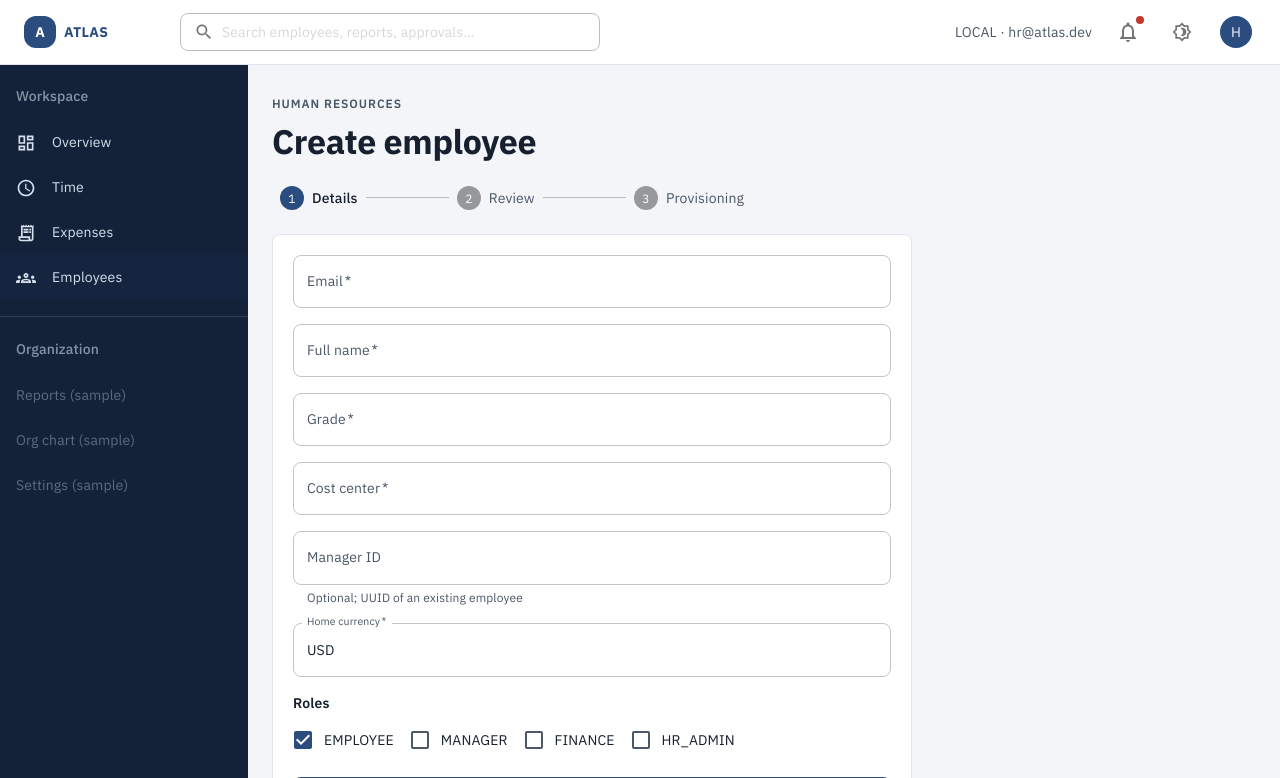
App › lets an HR admin create an employee and see provisioning resolve
Expected: the heading "Create employee" is shown, [272, 120, 536, 162]
Type "new.hire@atlas.dev" into the field labelled "Email *".
click(592, 281); type("new.hire@atlas.dev")  # box [293, 255, 891, 308]
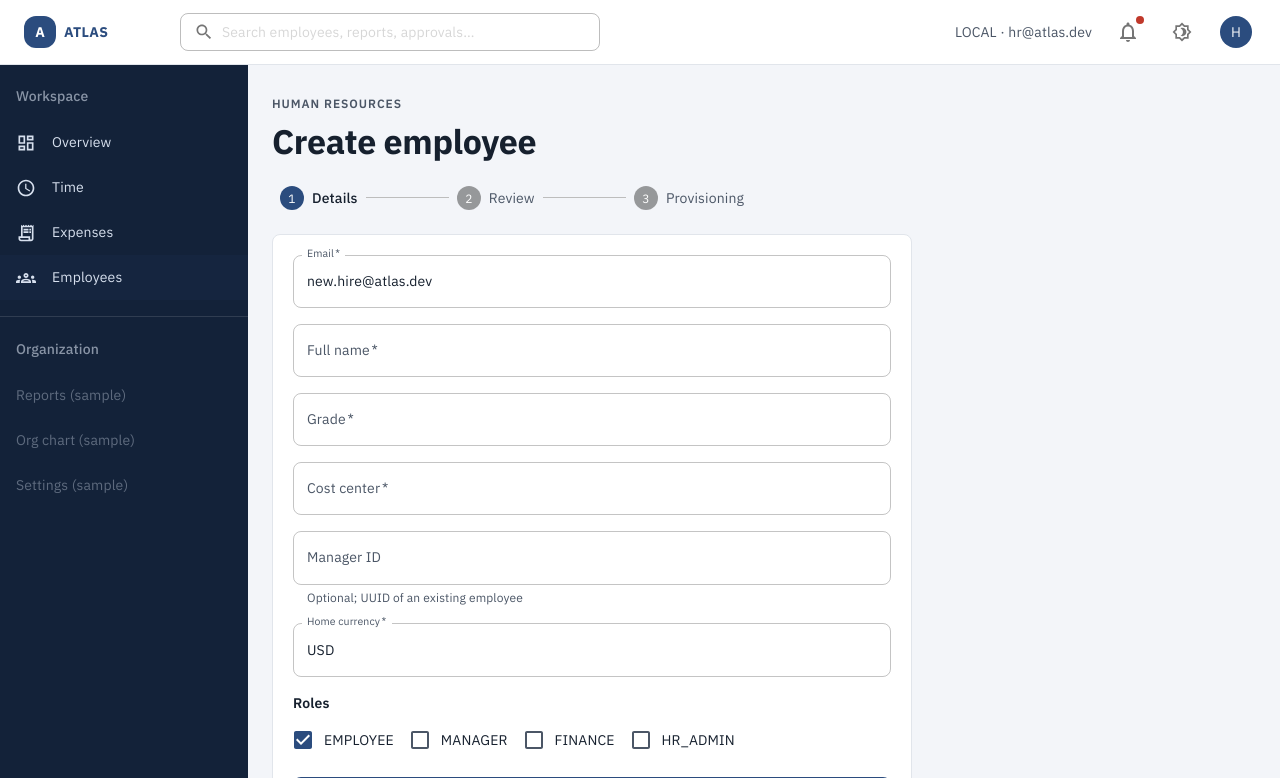
Type "New Hire" into the field labelled "Full name *".
click(592, 351); type("New Hire")  # box [293, 324, 891, 377]
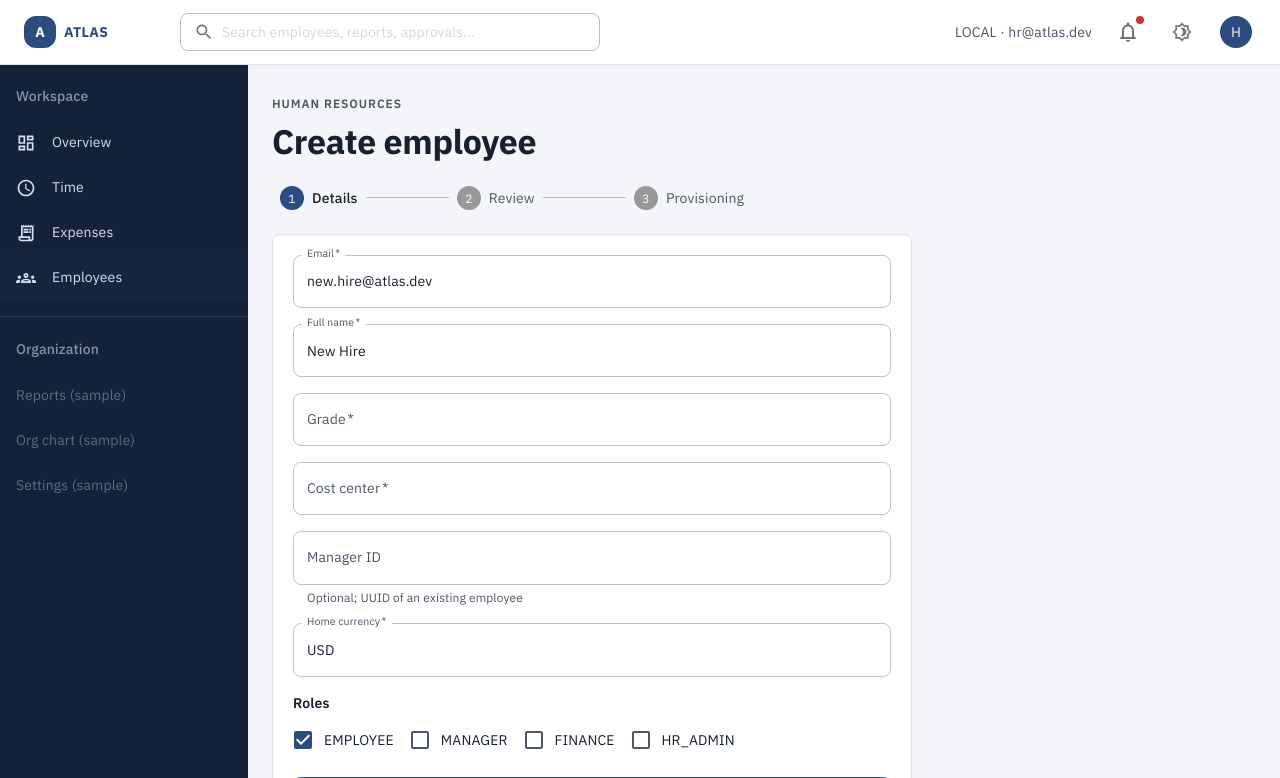
Type "IC1" into the field labelled "Grade *".
click(592, 420); type("IC1")  # box [293, 393, 891, 446]
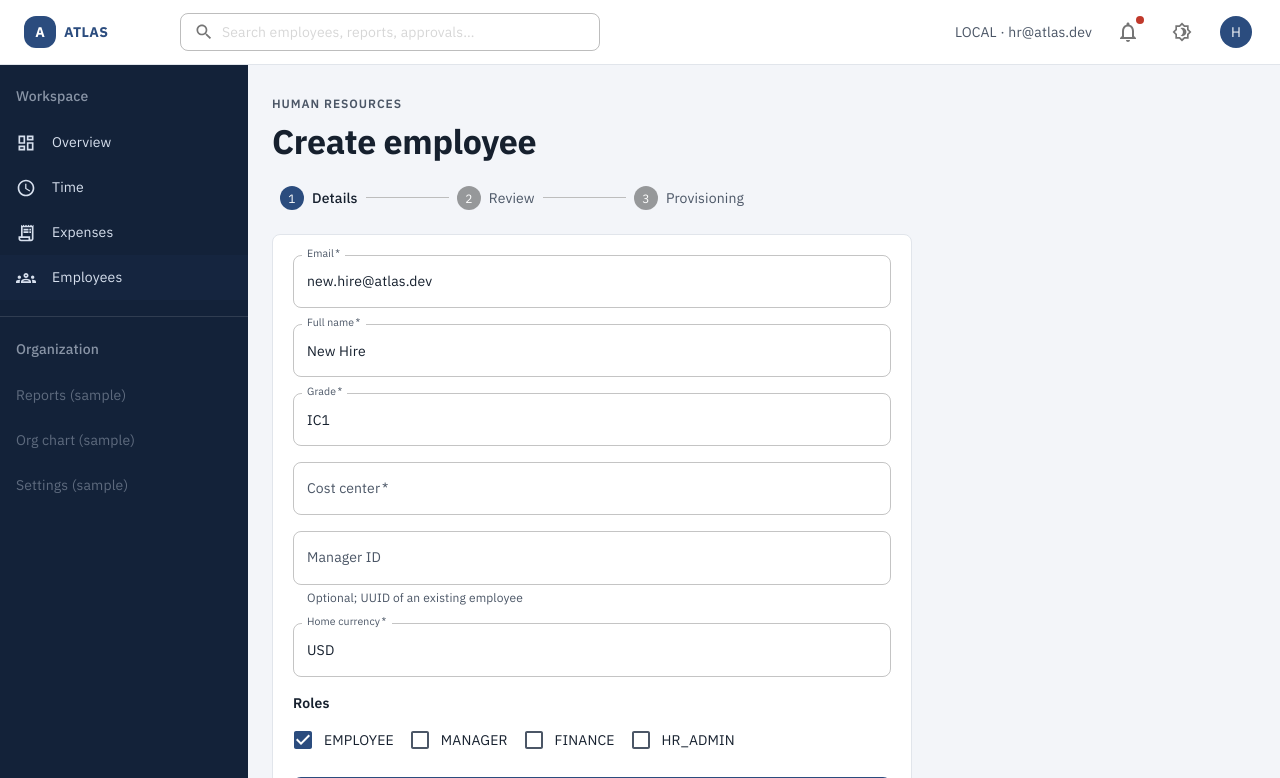
Type "CC-200" into the field labelled "Cost center *".
click(592, 489); type("CC-200")  # box [293, 462, 891, 515]
(page scrolled)
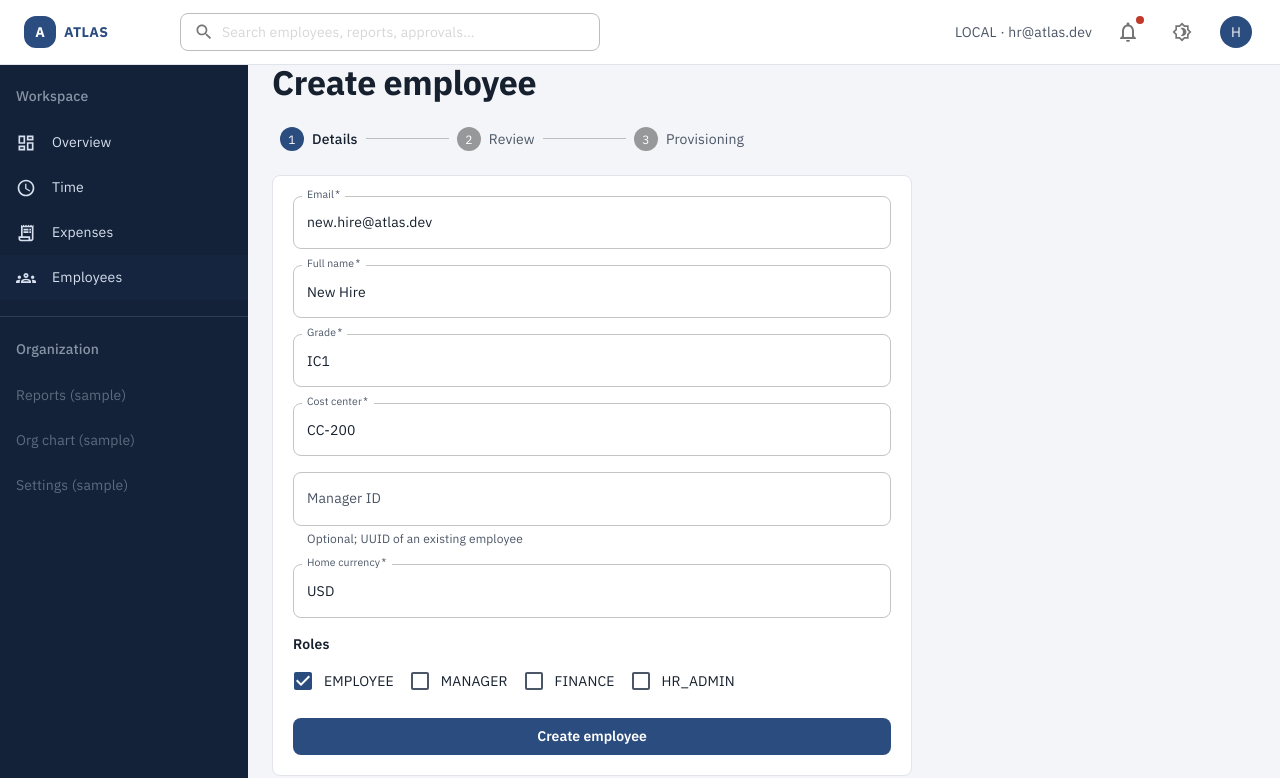
Click the button "Create employee".
click(592, 737)  # box [293, 718, 891, 755]
(page scrolled)
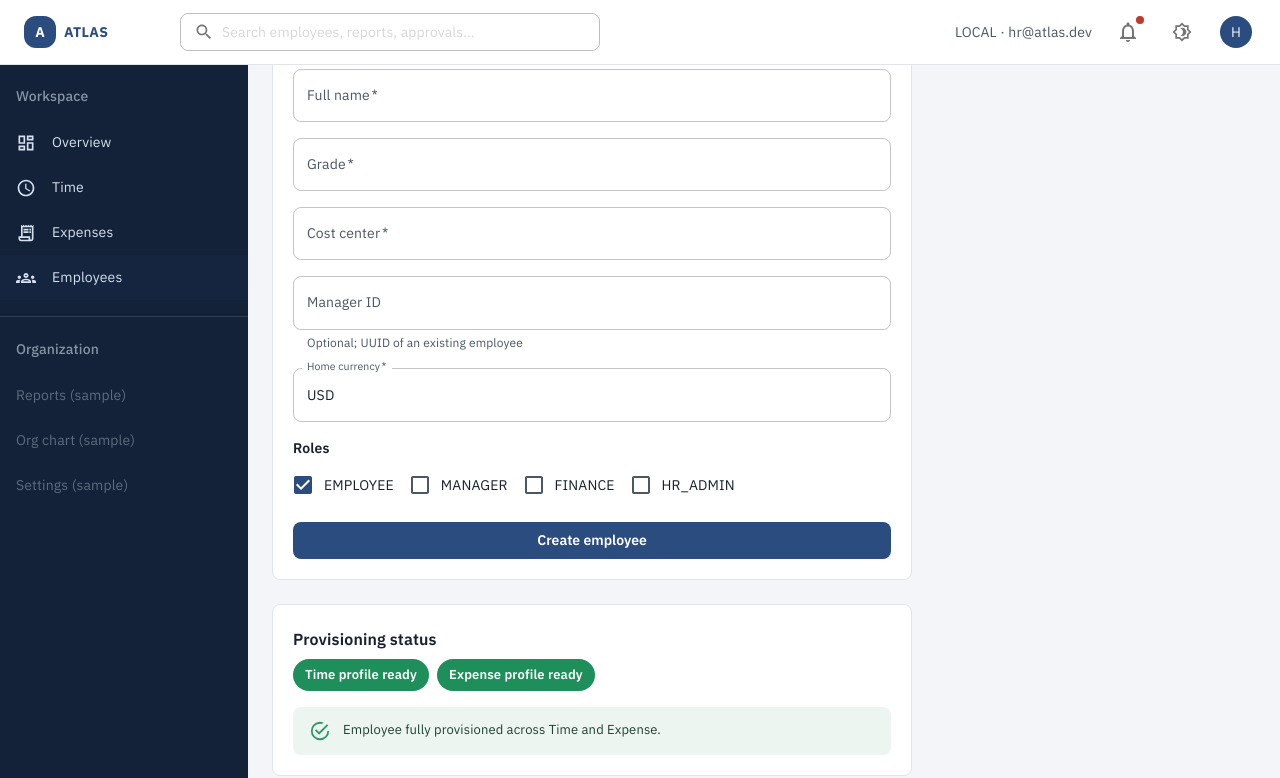
Expected: the text "Time profile provisioning…" is shown, [305, 666, 417, 683]
Expected: the text "Employee fully provisioned across Time and Expense." is shown, [343, 720, 661, 738]
